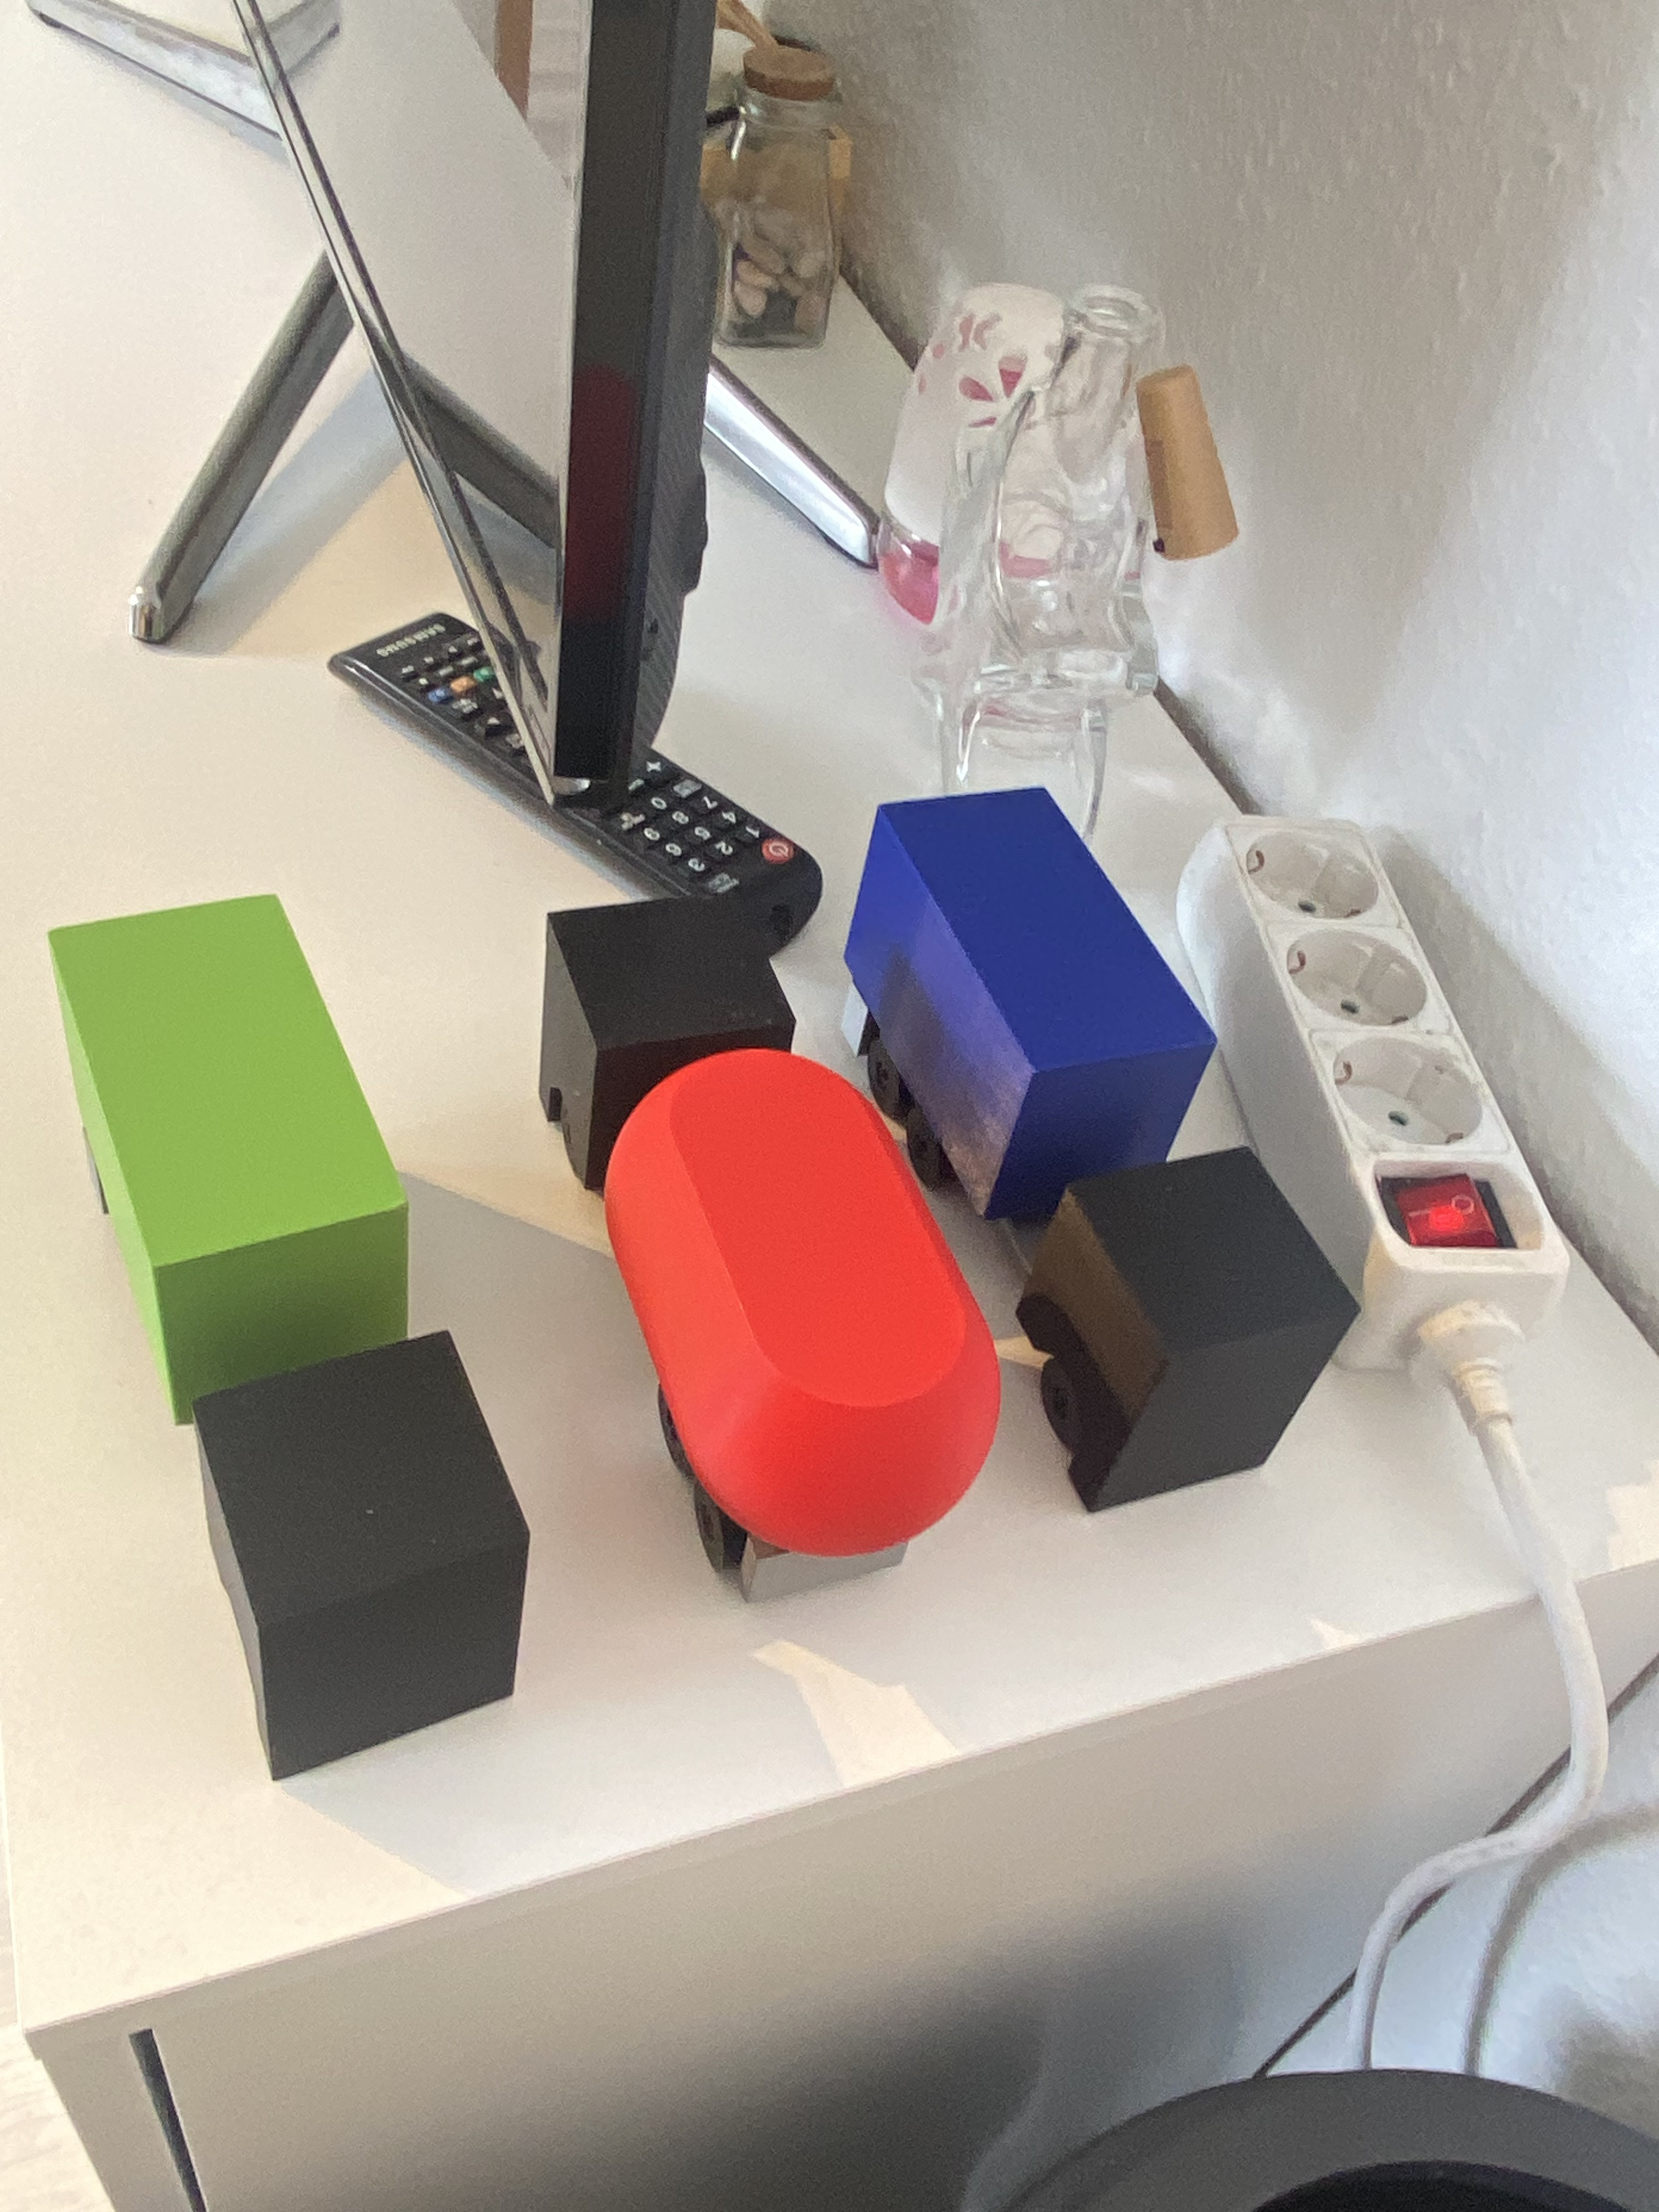blue_truck: (708, 953, 1481, 1306)
green_truck: (134, 883, 488, 1761)
red_truck: (387, 1055, 1140, 1409)
